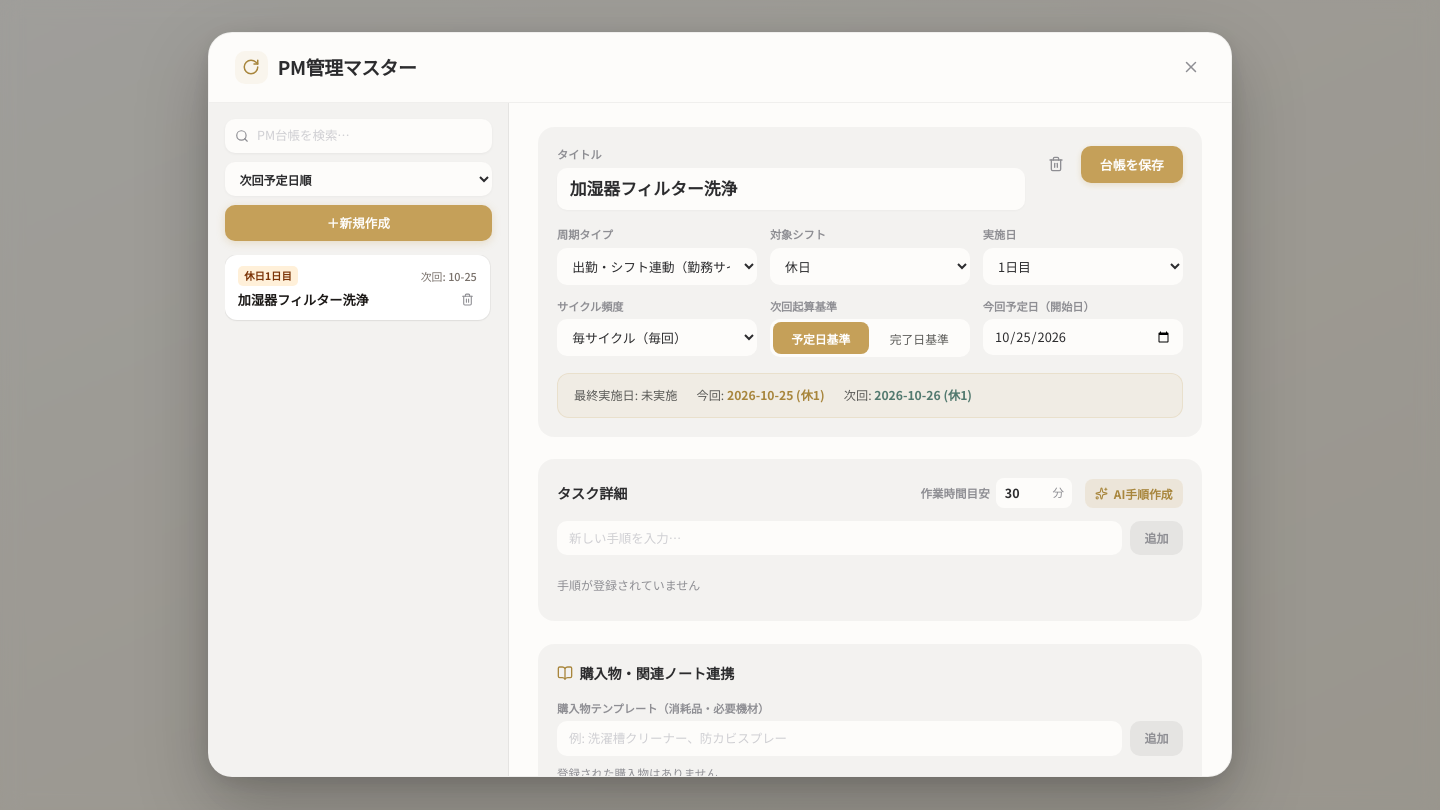
2. PMMasterModal: 開始日ピッカー連携 & リアルタイムプレビュー › 開始日ピッカーの日付変更時に即座にプレビューが更新されること
In the date field with test id "pm-base-date-picker": [1083, 337] box x1=983 y1=320 x2=1183 y2=355, type "2026-11-10"
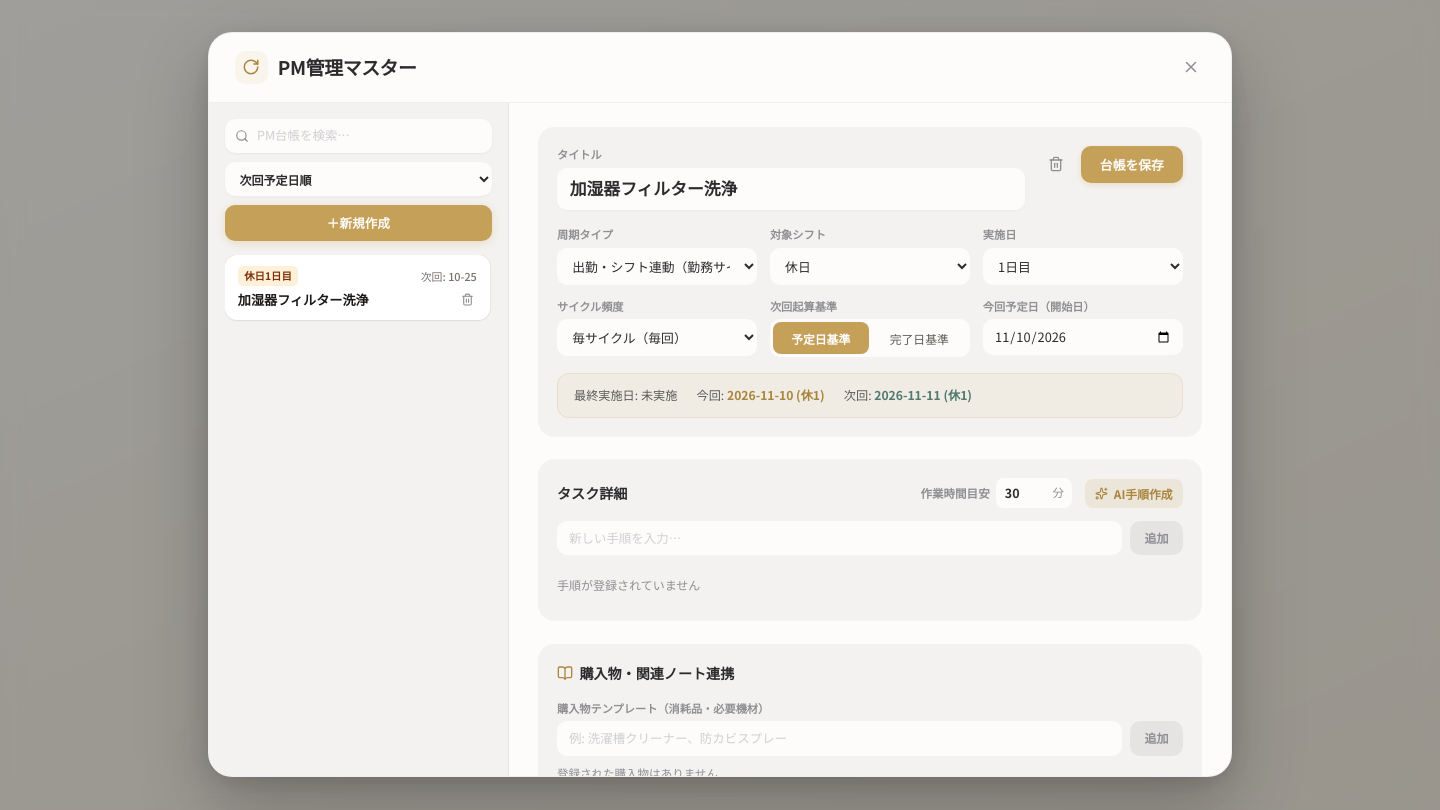
Now the element with test id "pm-modal-schedule-preview" shows "2026-11-10", box x1=727 y1=387 x2=825 y2=405
